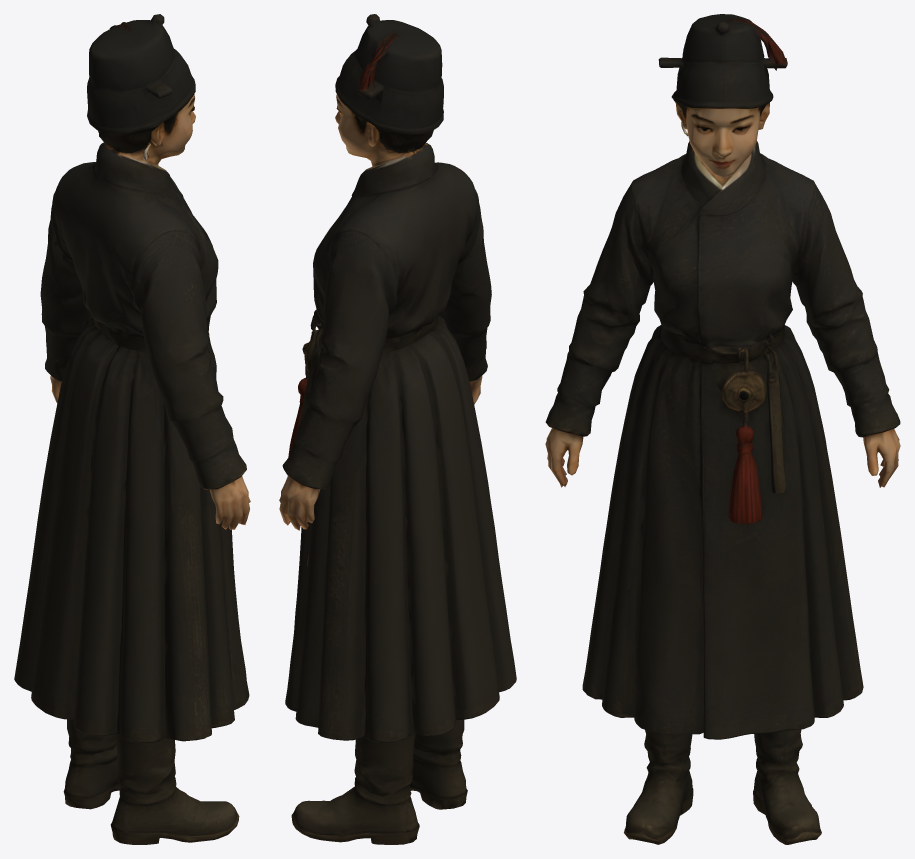
The model's file is constable-mesh.glb.
3 renders of one model, left to right at view 1: azimuth 30°, elevation 25°; view 2: azimuth 150°, elevation 25°; view 3: azimuth 270°, elevation 25°, orthographic.
Visible parts, largest first — view 1: tripo_node_01ea6f4a-10cf-45d2-a504-be23e47e439f; view 2: tripo_node_01ea6f4a-10cf-45d2-a504-be23e47e439f; view 3: tripo_node_01ea6f4a-10cf-45d2-a504-be23e47e439f.
Boxes of the visible parts, x1,y1,x2,y2 form: tripo_node_01ea6f4a-10cf-45d2-a504-be23e47e439f: [14, 14, 250, 844]; tripo_node_01ea6f4a-10cf-45d2-a504-be23e47e439f: [279, 14, 516, 844]; tripo_node_01ea6f4a-10cf-45d2-a504-be23e47e439f: [545, 14, 900, 844].
Size of the model in its own units: 0.2498 by 1 by 0.3987.
Materials: 1 (1 with a texture image).
